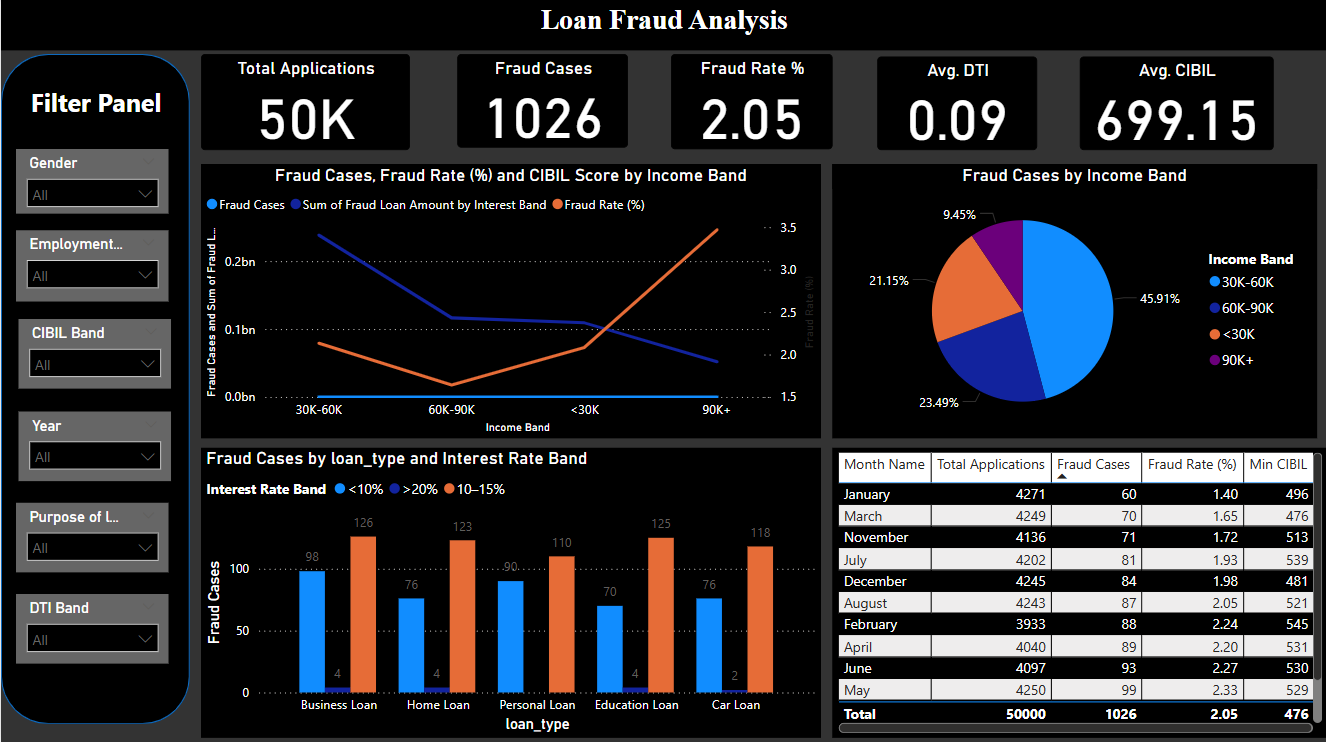

What the dashboard file says about the page in this screenshot:
{"tool":"powerbi","page":{"name":"LOAN FRAUD DASHBOARD","canvas":[1280,720],"ordinal":0},"visuals":[{"type":"textbox","box":[0,0,1280.3,50],"z":0},{"type":"shape","box":[0,53.1,182.2,659.9],"z":1000},{"type":"card","title":"Fraud Rate %","fields":{"Values":["loan_fraud loan_applications.Overall Fraud Rate (%)"]},"box":[646.8,53.5,156.1,92.2],"z":2000},{"type":"card","title":"Total Applications","fields":{"Values":["loan_fraud loan_applications.Total Applications"]},"box":[193,53.1,201.5,92.9],"z":3000},{"type":"card","title":"Fraud Cases","fields":{"Values":["loan_fraud loan_applications.Fraud Cases"]},"box":[440.2,53.5,165.1,90.7],"z":4000},{"type":"textbox","box":[18.1,78.4,147.2,48.3],"z":5000},{"type":"lineChart","title":"Fraud Cases, Fraud Rate (%) and CIBIL Score by Income Band","fields":{"Y":["loan_fraud loan_applications.Fraud Cases","Sum(loan_fraud loan_applications.Fraud Loan Amount by Interest Band)"],"Category":["loan_fraud loan_applications.Income Band"],"Y2":["loan_fraud loan_applications.Fraud Rate (%)"]},"box":[193.5,159.2,598.3,264.8],"z":6000},{"type":"pieChart","fields":{"Category":["loan_fraud loan_applications.Income Band"],"Y":["loan_fraud loan_applications.Fraud Cases"]},"box":[802.7,159.2,467.9,264.8],"z":7000},{"type":"clusteredColumnChart","fields":{"Category":["loan_fraud loan_applications.loan_type"],"Series":["loan_fraud loan_applications.Interest Rate Band"],"Y":["loan_fraud loan_applications.Fraud Cases"]},"box":[193.5,433.6,598.3,279.9],"z":8000},{"type":"tableEx","fields":{"Values":["Date.Month Name","loan_fraud loan_applications.Total Applications","loan_fraud loan_applications.Fraud Cases","loan_fraud loan_applications.Fraud Rate (%)","Date.Minimum CIBIL Score"]},"box":[802.3,433.1,477.8,279.9],"z":9000},{"type":"card","title":"Avg. CIBIL","fields":{"Values":["Date.Average CIBIL Score"]},"box":[1040.9,55,187.4,90.7],"z":10000},{"type":"slicer","fields":{"Values":["loan_fraud loan_applications.gender"]},"box":[14.9,144.2,147.2,62.5],"z":11000},{"type":"slicer","fields":{"Values":["loan_fraud loan_applications.employment_status"]},"box":[14.9,223,147.2,68.4],"z":12000},{"type":"slicer","fields":{"Values":["loan_fraud loan_applications.CIBIL Band"]},"box":[16.4,309.3,147.2,66.9],"z":13000},{"type":"slicer","fields":{"Values":["Date.Year"]},"box":[16.4,398.5,147.2,66.9],"z":14000},{"type":"slicer","fields":{"Values":["loan_fraud loan_applications.purpose_of_loan"]},"box":[14.9,486.2,147.2,66.9],"z":15000},{"type":"card","title":"Avg. DTI","fields":{"Values":["loan_fraud loan_applications.Average DTI"]},"box":[846.1,55,154.6,90.7],"z":16000},{"type":"slicer","fields":{"Values":["loan_fraud loan_applications.DTI Band"]},"box":[14.9,574,147.2,66.9],"z":17000}]}

Visuals, with their boxes in screenshot pixels (x1, y1, x2, y2), scaled from the page's 1280x720 canvas onto the 1326x742 screenshot:
textbox: [x1=0, y1=0, x2=1325, y2=52]
shape: [x1=0, y1=55, x2=189, y2=735]
"Fraud Rate %" card: [x1=670, y1=55, x2=832, y2=150]
"Total Applications" card: [x1=200, y1=55, x2=409, y2=150]
"Fraud Cases" card: [x1=456, y1=55, x2=627, y2=149]
textbox: [x1=19, y1=81, x2=171, y2=131]
"Fraud Cases, Fraud Rate (%) and CIBIL Score by Income Band" lineChart: [x1=200, y1=164, x2=820, y2=437]
pieChart - loan_fraud loan_applications.Income Band x loan_fraud loan_applications.Fraud Cases: [x1=832, y1=164, x2=1316, y2=437]
clusteredColumnChart - loan_fraud loan_applications.loan_type x loan_fraud loan_applications.Interest Rate Band: [x1=200, y1=447, x2=820, y2=735]
tableEx - Date.Month Name x loan_fraud loan_applications.Total Applications: [x1=831, y1=446, x2=1325, y2=735]
"Avg. CIBIL" card: [x1=1078, y1=57, x2=1272, y2=150]
slicer - loan_fraud loan_applications.gender: [x1=15, y1=149, x2=168, y2=213]
slicer - loan_fraud loan_applications.employment_status: [x1=15, y1=230, x2=168, y2=300]
slicer - loan_fraud loan_applications.CIBIL Band: [x1=17, y1=319, x2=169, y2=388]
slicer - Date.Year: [x1=17, y1=411, x2=169, y2=480]
slicer - loan_fraud loan_applications.purpose_of_loan: [x1=15, y1=501, x2=168, y2=570]
"Avg. DTI" card: [x1=877, y1=57, x2=1037, y2=150]
slicer - loan_fraud loan_applications.DTI Band: [x1=15, y1=592, x2=168, y2=660]
